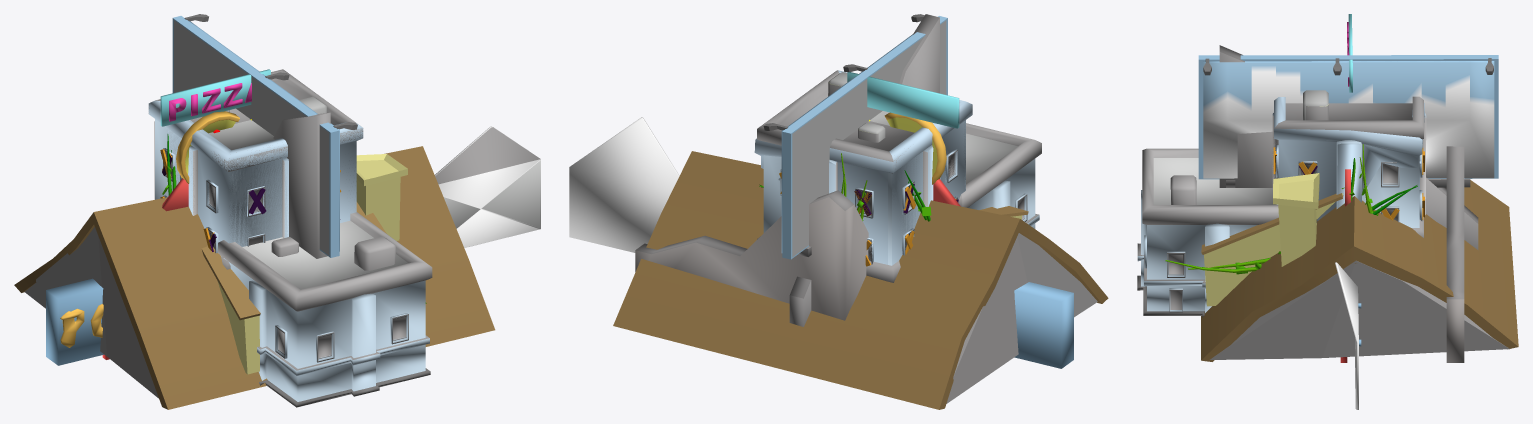
The model's file is models 1.fbx.
The picture shows the model from 3 angles, left to right: view 1: azimuth 30°, elevation 25°; view 2: azimuth 150°, elevation 25°; view 3: azimuth 270°, elevation 25°; orthographic projection. The views are drawn at different scales.
Parts seen in each view (by area): view 1: roof destroyed, house2, signboard1, destroyed house2, signboard4, house1, wall2, signboard2, signboard5; view 2: roof destroyed, signboard1, wall1, destroyed house2, signboard4, house1, house2, signboard2, wall2, house3; view 3: roof destroyed, signboard4, house2, destroyed house2, house1, wall1, wall2, signboard1, signboard2.
Part boxes in pixels (box(x1,y1,x2,y2)): roof destroyed: box(14, 146, 495, 409); house2: box(160, 149, 432, 407); signboard1: box(46, 126, 540, 365); destroyed house2: box(148, 100, 363, 256); signboard4: box(172, 14, 357, 257); house1: box(148, 69, 363, 246); wall2: box(273, 112, 330, 258); signboard2: box(160, 69, 270, 183); signboard5: box(162, 178, 188, 211); roof destroyed: box(613, 151, 1108, 409); signboard1: box(569, 117, 1073, 368); wall1: box(635, 190, 868, 320); destroyed house2: box(754, 70, 972, 265); signboard4: box(763, 14, 947, 259); house1: box(757, 70, 972, 265); house2: box(759, 123, 1041, 266); signboard2: box(847, 71, 959, 184); wall2: box(789, 14, 939, 326); house3: box(757, 239, 900, 282); roof destroyed: box(1201, 173, 1518, 361); signboard4: box(1198, 55, 1498, 187); house2: box(1137, 148, 1424, 317); destroyed house2: box(1272, 97, 1426, 222); house1: box(1272, 90, 1425, 227); wall1: box(1445, 146, 1464, 362); wall2: box(1219, 45, 1478, 249); signboard1: box(1335, 262, 1361, 409); signboard2: box(1347, 14, 1352, 92).
Size of the model in its own units: 1543 by 826 by 1086.
